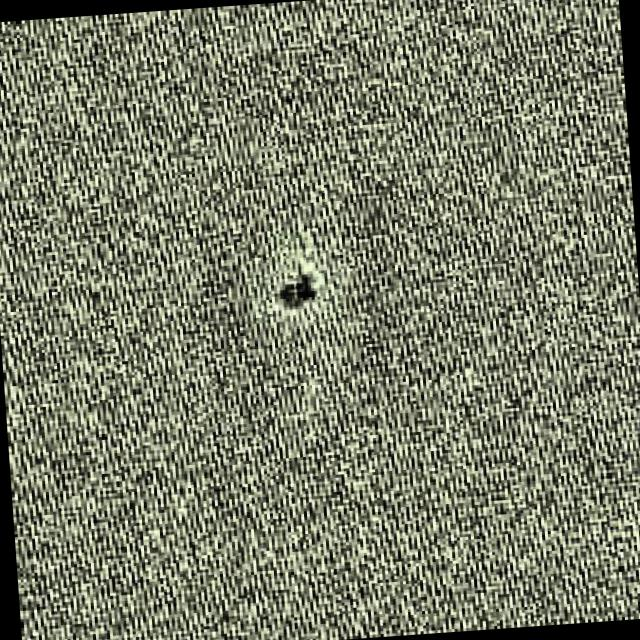cut: (262, 254, 341, 329)
